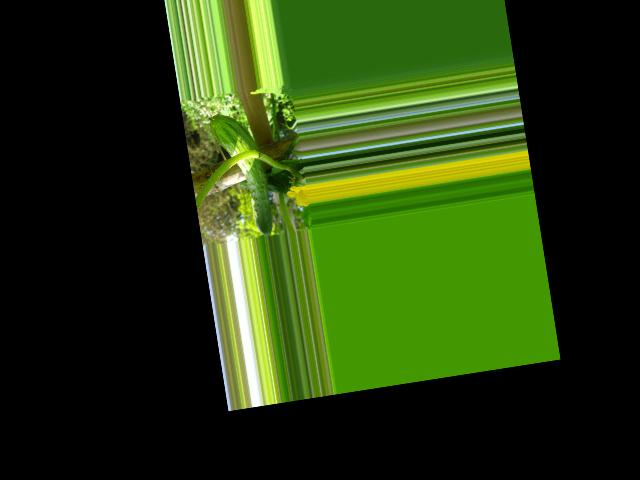cucumber: (209, 108, 275, 242)
